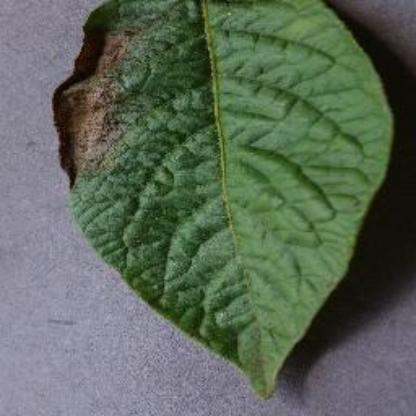Late-Blight: (47, 2, 399, 378)
